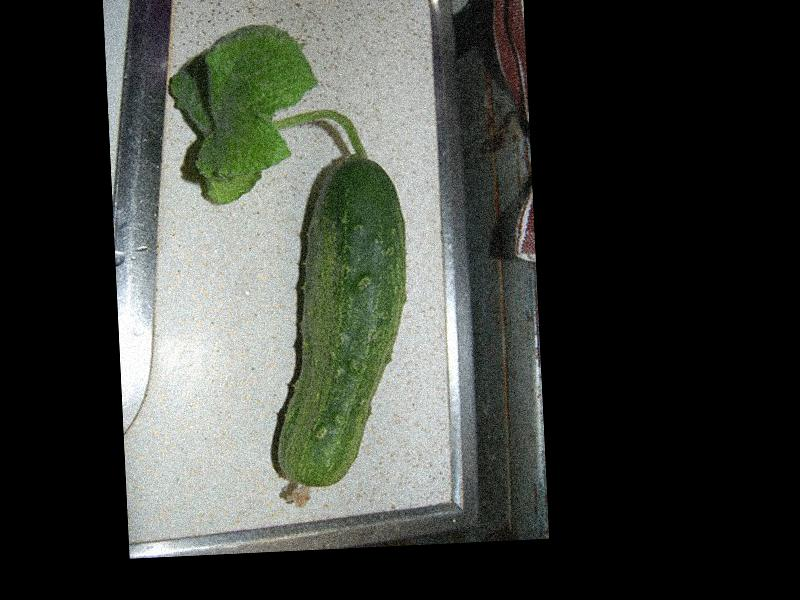Cucumber: (260, 150, 419, 508)
